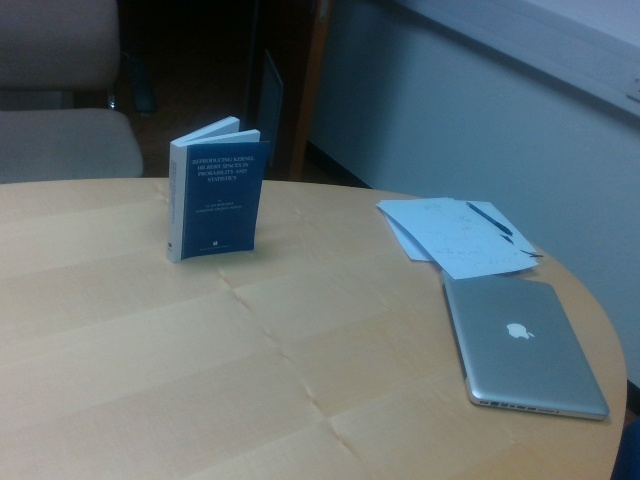book: (166, 115, 270, 261)
